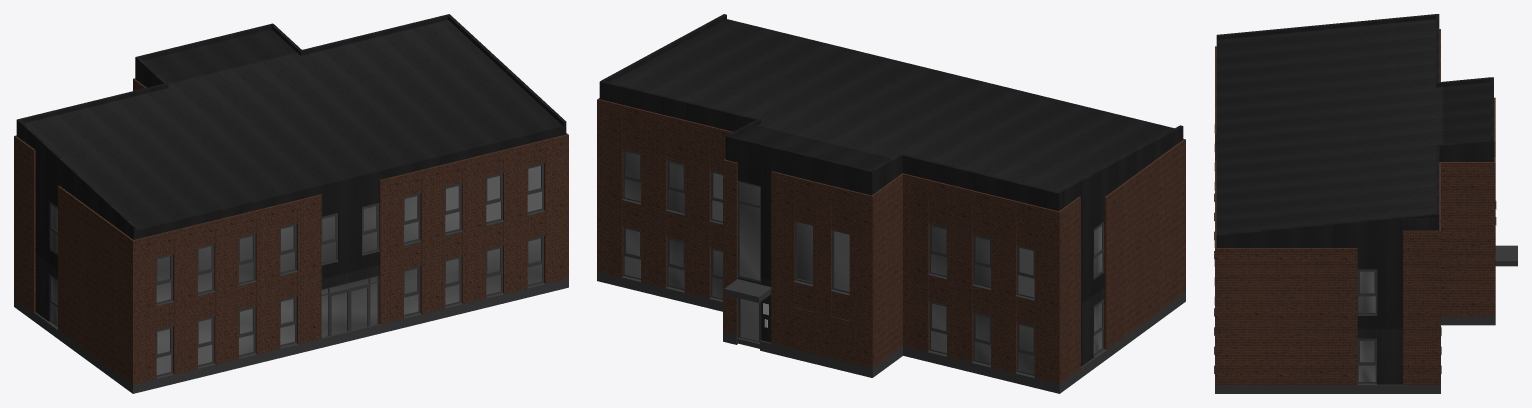
Rendered from AnnickbankT2.glb.
The picture shows the model from 3 angles, left to right: view 1: azimuth 30°, elevation 25°; view 2: azimuth 150°, elevation 25°; view 3: azimuth 270°, elevation 25°; orthographic projection. The views are drawn at different scales.
Visible parts, largest first — view 1: Basic Roof RFH-101 Metal Clad [2220161], Brick BRK-101 Return none 225mm return 0 offset [2262916] (×8), Brick BRK-101 Return single side 6740mm [2267195], Plane003, Brick BRK-102 Return none 225mm return 0 offset [2266693], Basic Wall GLP-101 Metal Cladding [2494299], Brick BRK-101 Return single side 1790 [2269377], Brick BRK-101 Return single side 6740mm [2262914], Basic Wall GLP-101 Metal Cladding [2407780], Basic Wall GLP-101 Metal Cladding [2500043], Basic Wall GLP-101 Metal Cladding [2301681], Brick BRK-102 Return single side 10575 [2269307] (+7 smaller); view 2: Basic Roof RFH-101 Metal Clad [2220161], Brick BRK-101 Return single side 6740mm [2267195], Brick BRK-101 Return single side 2587.5mm return [2346479], Brick BRK-101 Return none 225mm return 0 offset [2457868] (×2), Brick BRK-101 Return none 225mm return 0 offset [2269383] (×2), Brick BRK-101 Return single side 1790 [2269377], Brick BRK-101 Return none 225mm return 0 offset [2269387], Brick BRK-101 Return single side 1790 [2457866], Plane006, Brick BRK-101 Return none 225mm return 0 offset [2346481], Plane002, Basic Wall GLP-101 Metal Cladding [2302482] (+16 smaller); view 3: Basic Roof RFH-101 Metal Clad [2220161], Brick BRK-101 Return single side 6740mm [2262914], Brick BRK-101 Return single side 2587.5mm return [2346483], Brick BRK-101 Return single side 1790 [2457866], Basic Wall GLP-101 Metal Cladding [2501018], Basic Wall GLP-101 Metal Cladding [2301546], Brick BRK-102 Return single side 10575 [2457820], Plane004, Basic Wall GLP-101 Metal Cladding [2407780], Basic Wall GLP-101 Metal Cladding [2302548], Basic Wall GLP-101 Metal Cladding [2302699], Entrance Canopy Entrance Canopy [2493539] (+6 smaller).
Part boxes in pixels (x1,y1,x2,y2): Basic Roof RFH-101 Metal Clad [2220161]: (24,20,563,234); Brick BRK-101 Return none 225mm return 0 offset [2262916] (×8): (173,144,527,374); Brick BRK-101 Return single side 6740mm [2267195]: (58,186,156,384); Plane003: (156,166,542,374); Brick BRK-102 Return none 225mm return 0 offset [2266693]: (132,278,568,393); Basic Wall GLP-101 Metal Cladding [2494299]: (321,180,379,289); Brick BRK-101 Return single side 1790 [2269377]: (14,135,35,312); Brick BRK-101 Return single side 6740mm [2262914]: (544,133,568,283); Basic Wall GLP-101 Metal Cladding [2407780]: (35,136,136,239); Basic Wall GLP-101 Metal Cladding [2500043]: (35,168,58,321); Basic Wall GLP-101 Metal Cladding [2301681]: (136,131,563,239); Brick BRK-102 Return single side 10575 [2269307]: (14,298,131,392); Basic Roof RFH-101 Metal Clad [2220161]: (610,19,1174,191); Brick BRK-101 Return single side 6740mm [2267195]: (1104,139,1185,349); Brick BRK-101 Return single side 2587.5mm return [2346479]: (849,174,902,368); Brick BRK-101 Return none 225mm return 0 offset [2457868] (×2): (641,109,710,298); Brick BRK-101 Return none 225mm return 0 offset [2269383] (×2): (947,184,1017,373); Brick BRK-101 Return single side 1790 [2269377]: (1034,196,1080,384); Brick BRK-101 Return none 225mm return 0 offset [2269387]: (902,173,929,351); Brick BRK-101 Return single side 1790 [2457866]: (597,98,623,277); Plane006: (739,182,849,340); Brick BRK-101 Return none 225mm return 0 offset [2346481]: (771,171,795,349); Plane002: (931,226,1034,374); Basic Wall GLP-101 Metal Cladding [2302482]: (725,135,873,195); Basic Roof RFH-101 Metal Clad [2220161]: (1216,19,1490,234); Brick BRK-101 Return single side 6740mm [2262914]: (1215,237,1357,385); Brick BRK-101 Return single side 2587.5mm return [2346483]: (1441,157,1495,316); Brick BRK-101 Return single side 1790 [2457866]: (1403,220,1440,385); Basic Wall GLP-101 Metal Cladding [2501018]: (1357,248,1402,384); Basic Wall GLP-101 Metal Cladding [2301546]: (1216,216,1402,247); Brick BRK-102 Return single side 10575 [2457820]: (1217,384,1440,393); Plane004: (1358,271,1375,381); Basic Wall GLP-101 Metal Cladding [2407780]: (1216,17,1402,39); Basic Wall GLP-101 Metal Cladding [2302548]: (1436,140,1490,161); Basic Wall GLP-101 Metal Cladding [2302699]: (1403,213,1435,230); Entrance Canopy Entrance Canopy [2493539]: (1495,245,1517,266).
Size of the model in its own units: 0.2858 by 0.1212 by 0.1809.
Materials: 5 (3 with a texture image).
